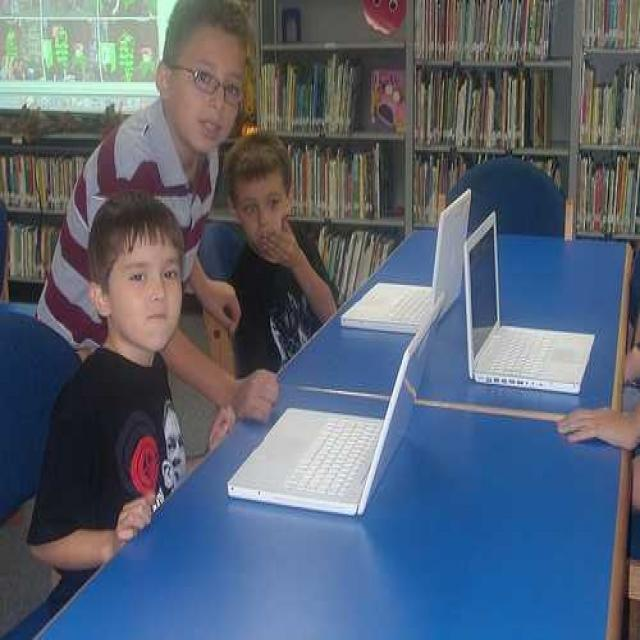laptop: (229, 312, 419, 515), (455, 207, 632, 406), (341, 197, 465, 338)
